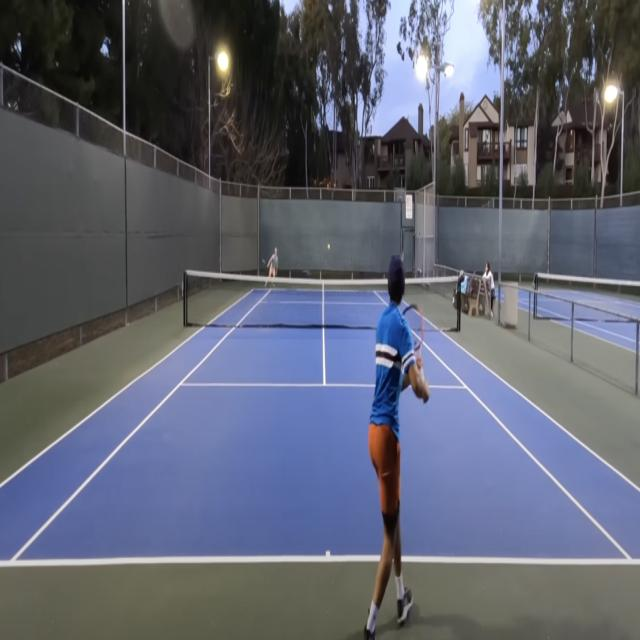ball: (328, 243, 330, 251)
